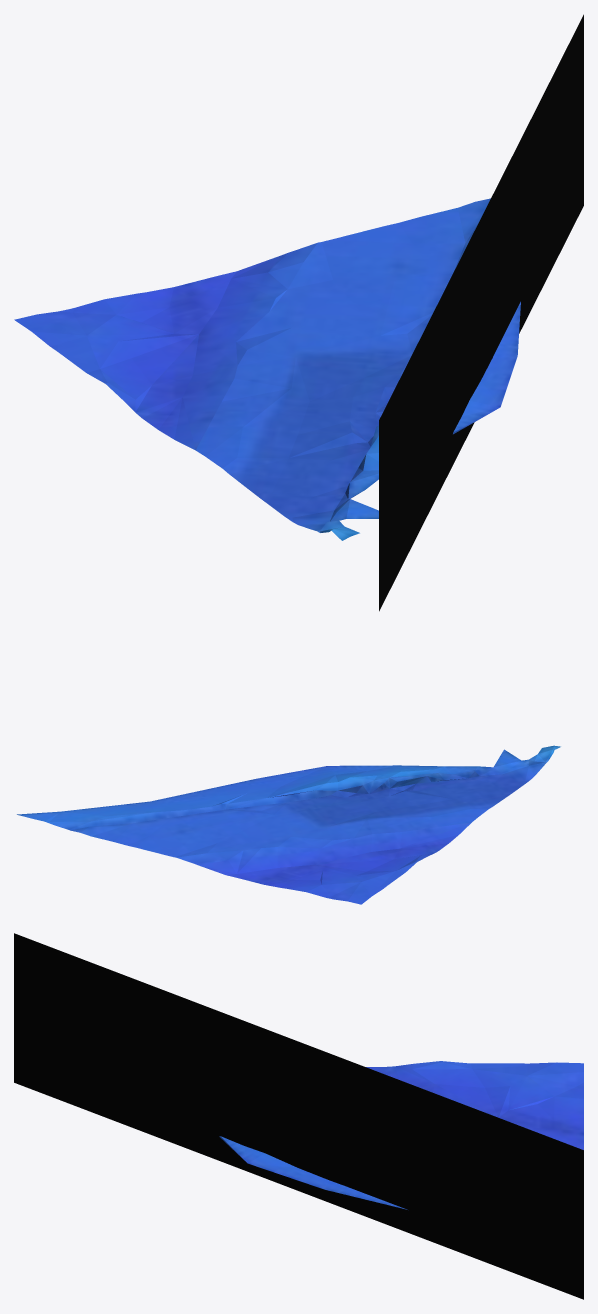
The picture shows the model from 3 angles, top to bottom: view 1: azimuth 30°, elevation 25°; view 2: azimuth 150°, elevation 25°; view 3: azimuth 270°, elevation 25°; orthographic projection. The views are drawn at different scales.
Size of the model in its own units: 28.03 by 9 by 31.1.
Materials: 2 (2 with a texture image).
